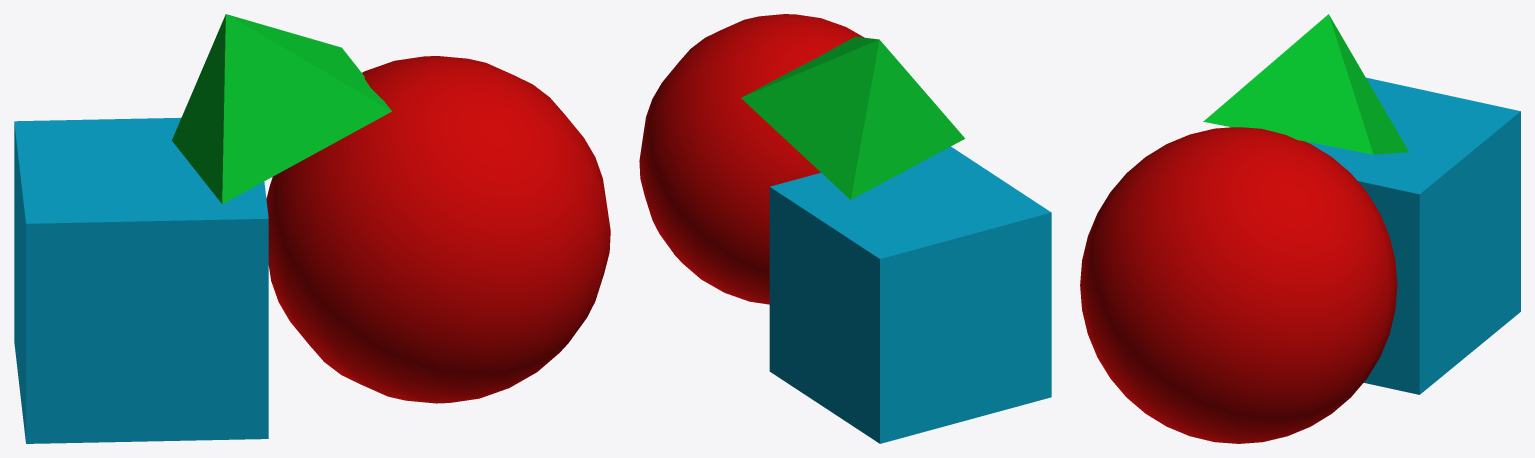
File: Shapes.fbx
The picture shows the model from 3 angles, left to right: view 1: azimuth 30°, elevation 25°; view 2: azimuth 150°, elevation 25°; view 3: azimuth 270°, elevation 25°; orthographic projection. The views are drawn at different scales.
Visible parts, largest first — view 1: pSphere1, pCube1, pPyramid1; view 2: pCube1, pSphere1, pPyramid1; view 3: pSphere1, pCube1, pPyramid1.
Boxes of the visible parts, x1,y1,x2,y2 form: pSphere1: (266,56,610,403); pCube1: (14,117,268,443); pPyramid1: (172,14,391,204); pCube1: (769,146,1051,443); pSphere1: (639,14,863,304); pPyramid1: (741,36,964,199); pSphere1: (1080,127,1397,443); pCube1: (1305,77,1520,394); pPyramid1: (1203,14,1408,154).
Size of the model in its own units: 2.45 by 1.72 by 1.99.
